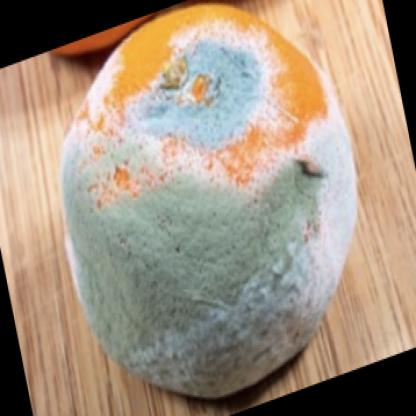rotten_orange: (55, 7, 357, 403)
